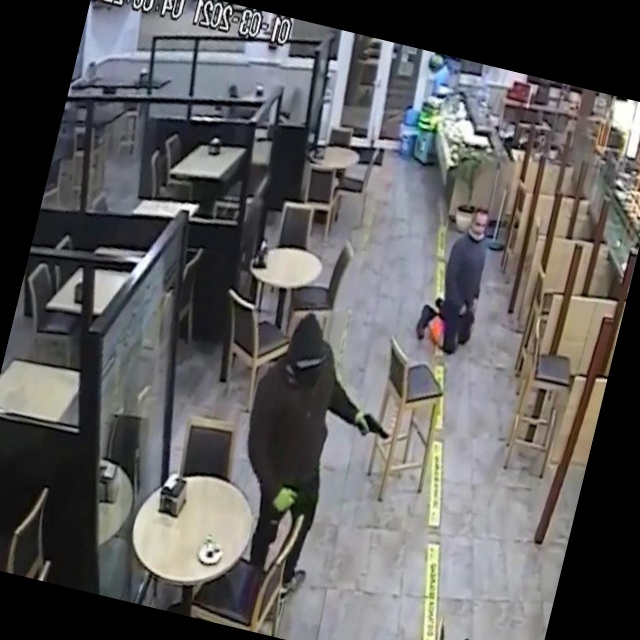gun: (339, 398, 406, 461)
